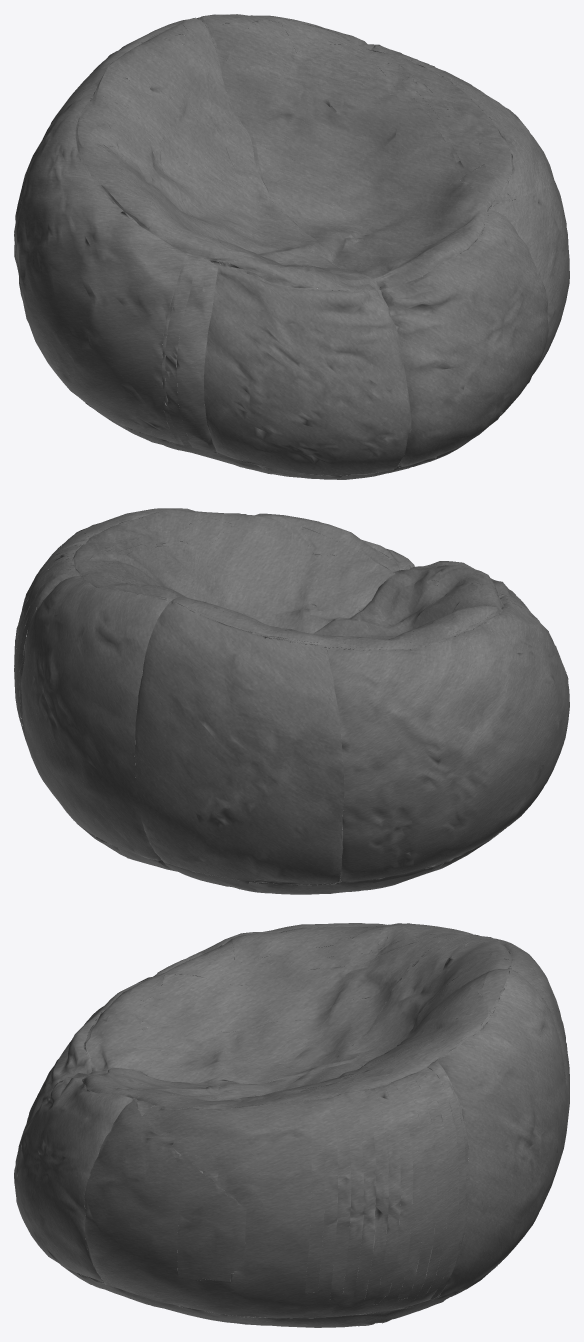
File: beanbag-1.glb
3 renders of one model, top to bottom at view 1: azimuth 30°, elevation 25°; view 2: azimuth 150°, elevation 25°; view 3: azimuth 270°, elevation 25°, orthographic.
Parts seen in each view (by area): view 1: Cylinder.246_Bean_Bag_0, Cylinder.246_Bean_Bag_0.001, Cylinder.246_Bean_Bag_0.002; view 2: Cylinder.246_Bean_Bag_0.001, Cylinder.246_Bean_Bag_0, Cylinder.246_Bean_Bag_0.002; view 3: Cylinder.246_Bean_Bag_0, Cylinder.246_Bean_Bag_0.001, Cylinder.246_Bean_Bag_0.002.
Boxes of the visible parts, x1,y1,x2,y2 form: Cylinder.246_Bean_Bag_0: (75,15,569,474); Cylinder.246_Bean_Bag_0.001: (14,14,503,479); Cylinder.246_Bean_Bag_0.002: (74,14,566,479); Cylinder.246_Bean_Bag_0.001: (14,533,569,894); Cylinder.246_Bean_Bag_0: (14,508,569,871); Cylinder.246_Bean_Bag_0.002: (73,512,506,890); Cylinder.246_Bean_Bag_0: (14,926,511,1326); Cylinder.246_Bean_Bag_0.001: (84,923,569,1327); Cylinder.246_Bean_Bag_0.002: (81,924,512,1325).
Bounding box in the file's own units: 0.8796 × 0.5207 × 0.8759.
Materials: 1 (1 with a texture image).
